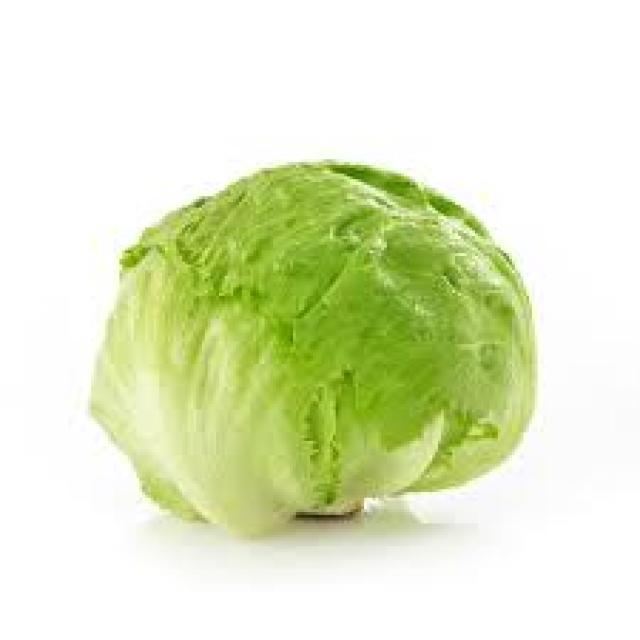Lettuce: (90, 157, 538, 538)
